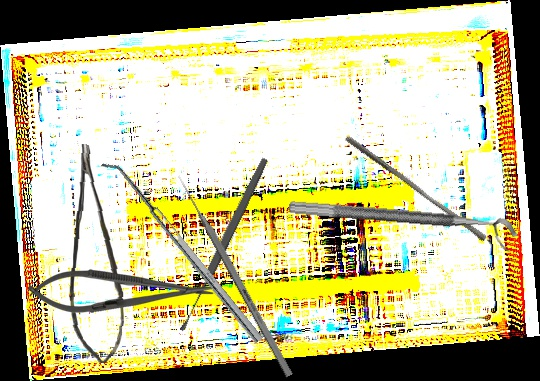Fixation Ring: (286, 199, 520, 253)
Micro Scissor: (66, 144, 132, 364)
Needle Holder: (28, 269, 214, 314)
Pusher: (175, 173, 294, 378), (340, 134, 491, 243)
Spatula Surgical: (99, 154, 264, 350)
Surgical Spoon: (176, 155, 271, 334)
